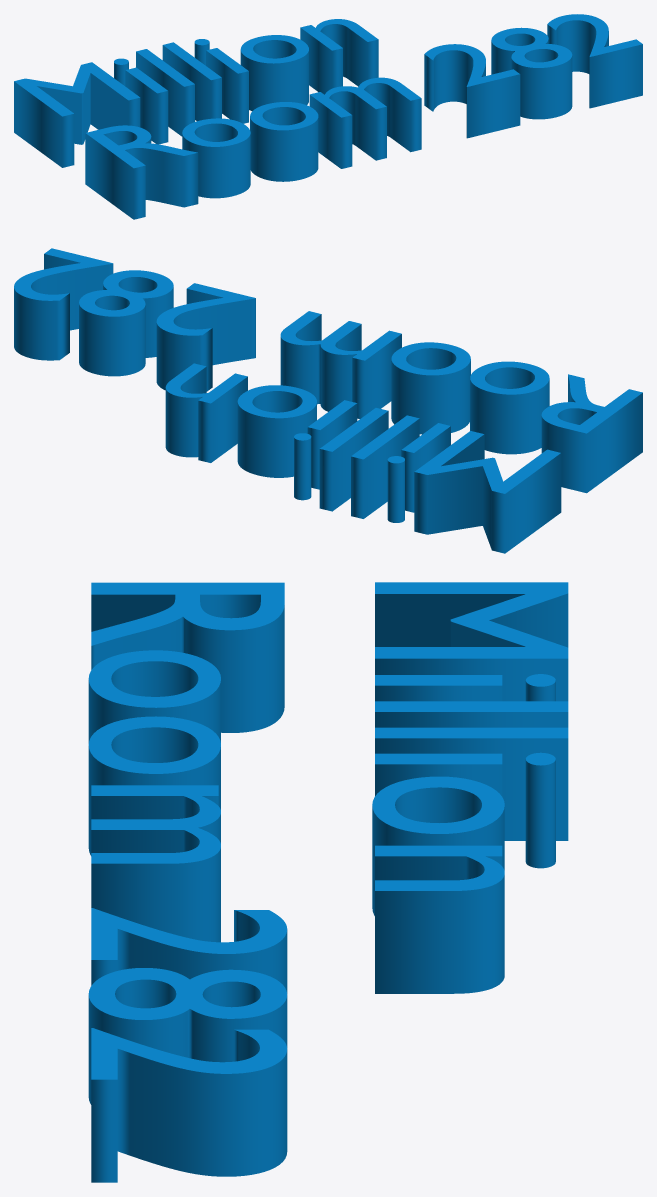
The model's file is million-282.gltf.
3 views of the same model, one above another, from view 1: azimuth 30°, elevation 25°; view 2: azimuth 150°, elevation 25°; view 3: azimuth 270°, elevation 25° (orthographic). The views are drawn at different scales.
Parts seen in each view (by area): view 1: Text; view 2: Text; view 3: Text.
Part boxes in pixels (x1,y1,x2,y2): Text: (14, 14, 642, 219); Text: (14, 248, 642, 553); Text: (88, 582, 568, 1182).
Size of the model in its own units: 4.15 by 0.4 by 1.69.
